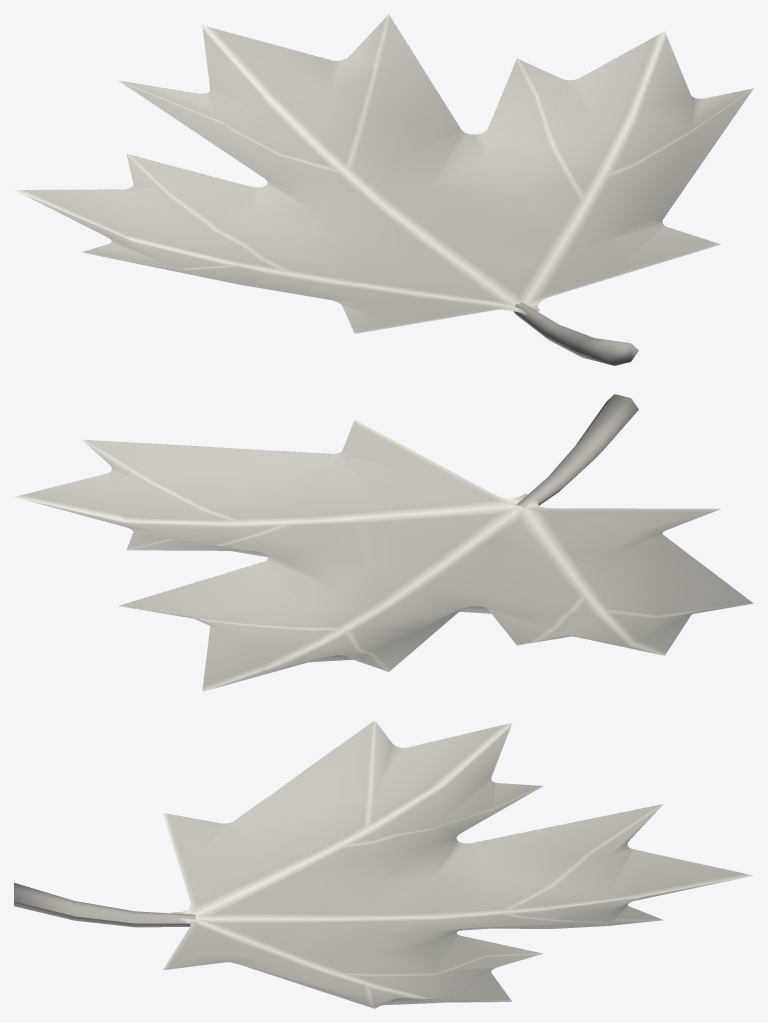
The model's file is maple-leaf.glb.
3 views of the same model, one above another, from view 1: azimuth 30°, elevation 25°; view 2: azimuth 150°, elevation 25°; view 3: azimuth 270°, elevation 25° (orthographic). The views are drawn at different scales.
Visible parts, largest first — view 1: maple-leaf; view 2: maple-leaf; view 3: maple-leaf.
Boxes of the visible parts, left/top/right/bottom form: maple-leaf: left=14, top=14, right=753, bottom=365; maple-leaf: left=15, top=394, right=753, bottom=691; maple-leaf: left=14, top=720, right=753, bottom=1008.
Size of the model in its own units: 1.17 by 0.1203 by 1.27.
Materials: 1 (1 with a texture image).
